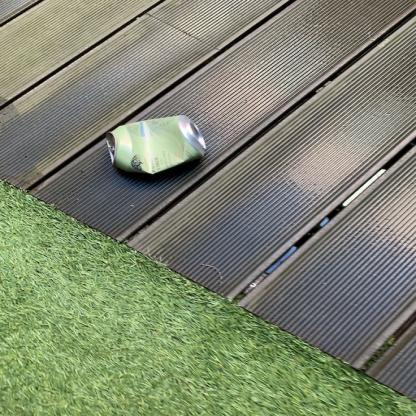trash: (101, 114, 208, 183)
